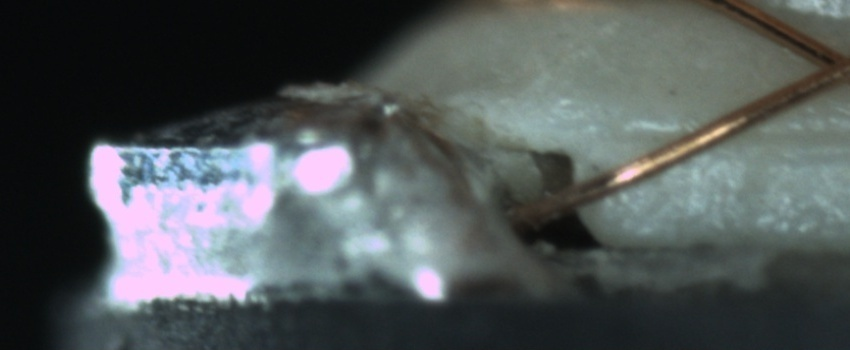CL: (797, 35, 850, 93)
DL: (626, 102, 845, 172)
